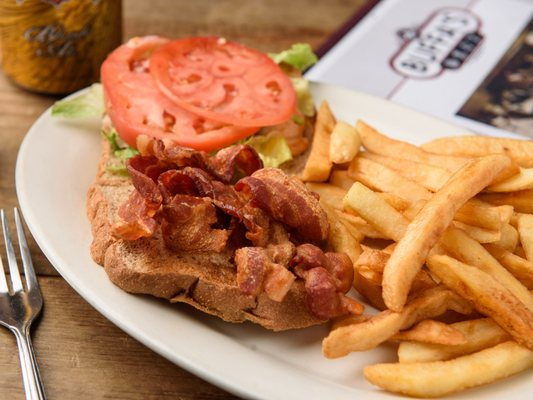soup: (86, 34, 358, 332)
